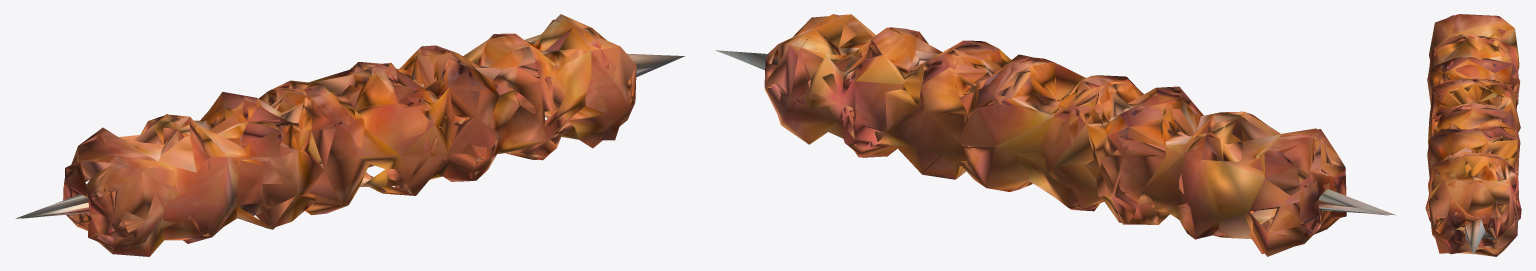
Rendered from tavuk_sis.glb.
The picture shows the model from 3 angles, left to right: view 1: azimuth 30°, elevation 25°; view 2: azimuth 150°, elevation 25°; view 3: azimuth 270°, elevation 25°; orthographic projection. The views are drawn at different scales.
Parts seen in each view (by area): view 1: Mesh_0; view 2: Mesh_0; view 3: Mesh_0.
Part boxes in pixels (x1,y1,x2,y2): Mesh_0: [15, 14, 684, 256]; Mesh_0: [715, 14, 1395, 256]; Mesh_0: [1425, 14, 1521, 256].
Size of the model in its own units: 0.32 by 0.0545 by 0.0547.
Materials: 1 (1 with a texture image).
